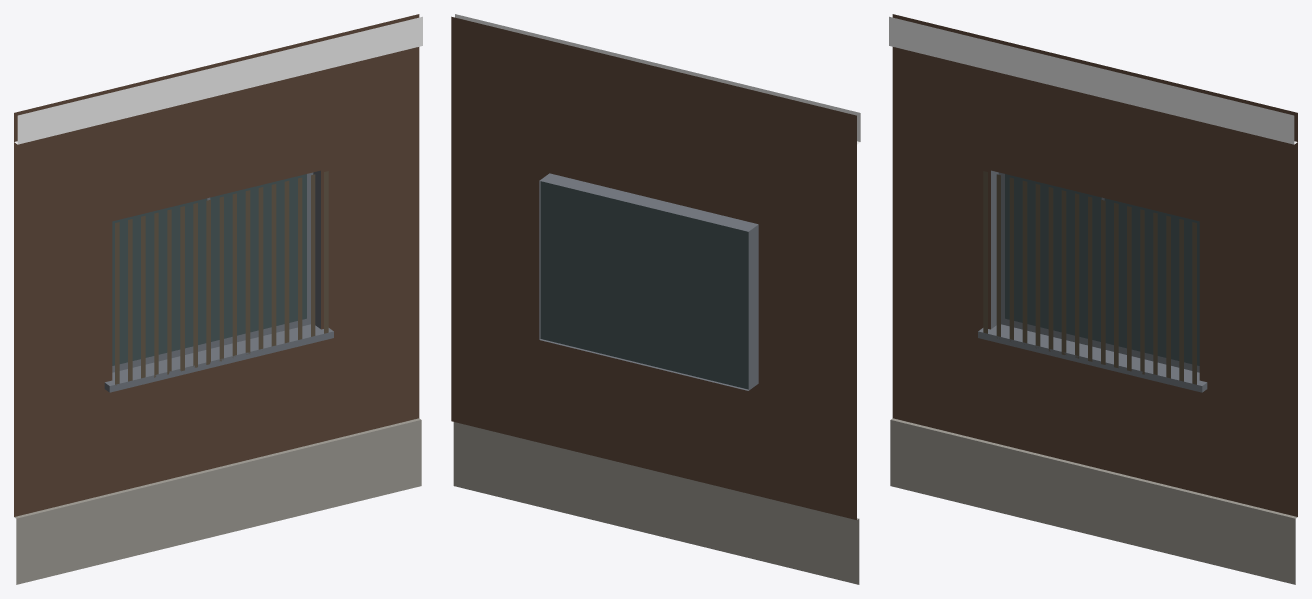
3 views of the same model, side by side, from view 1: azimuth 30°, elevation 25°; view 2: azimuth 150°, elevation 25°; view 3: azimuth 330°, elevation 25° (orthographic).
Visible parts, largest first — view 1: a2000s3/800/base-w1; view 2: a2000s3/800/base-w1; view 3: a2000s3/800/base-w1.
Boxes of the visible parts, x1,y1,x2,y2 form: a2000s3/800/base-w1: (14,14,422,584); a2000s3/800/base-w1: (451,14,860,584); a2000s3/800/base-w1: (889,14,1297,584).
Size of the model in its own units: 3.2 by 3.55 by 0.21.
